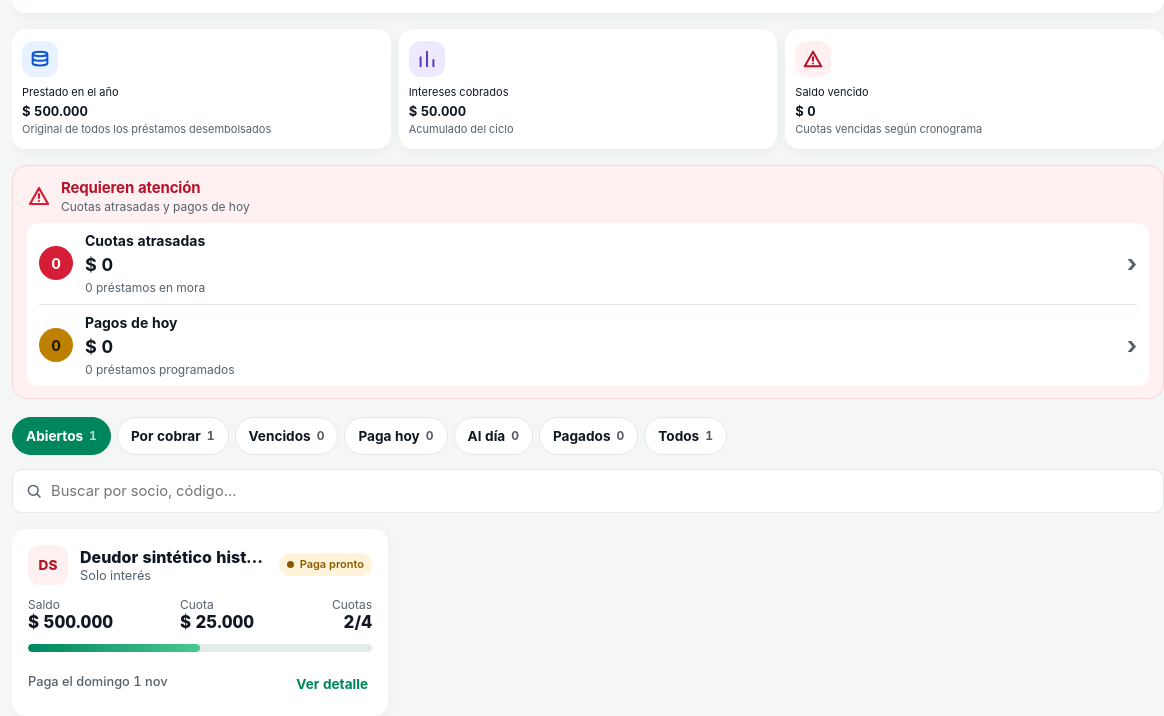
Test: cronograma original y satisfacción al corte histórico › un abono parcial futuro no reduce la cuota final del corte anterior
(page scrolled)
What coordinates should you click on to do the following:
click the button "Ver detalle"
I would click on:
 (332, 684)
Its box is left=12, top=529, right=388, bottom=715.
(page scrolled)
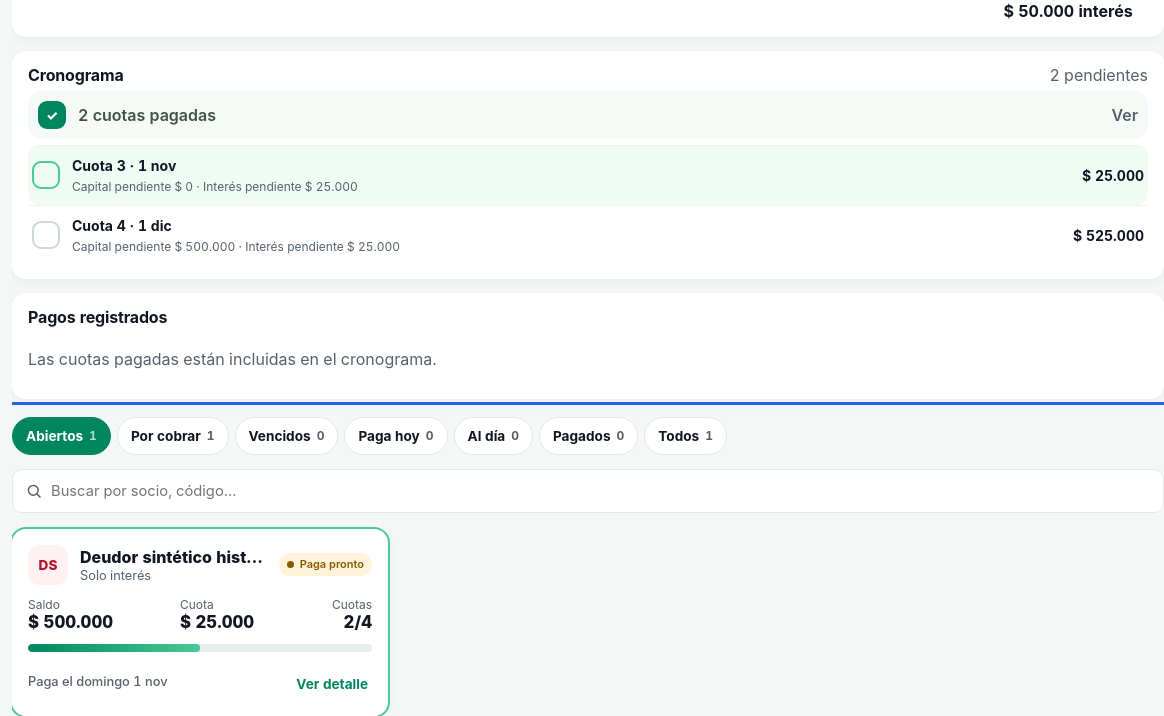
Expected: the list item "Cuota 4 · 1 dic" shows "Capital pendiente $ 500.000", left=28, top=205, right=1148, bottom=265
Expected: the list item "Cuota 4 · 1 dic" shows "Interés pendiente $ 25.000", left=28, top=205, right=1148, bottom=265
Expected: the text with class "row-amount" reads "$ 525.000", left=1073, top=227, right=1144, bottom=244
